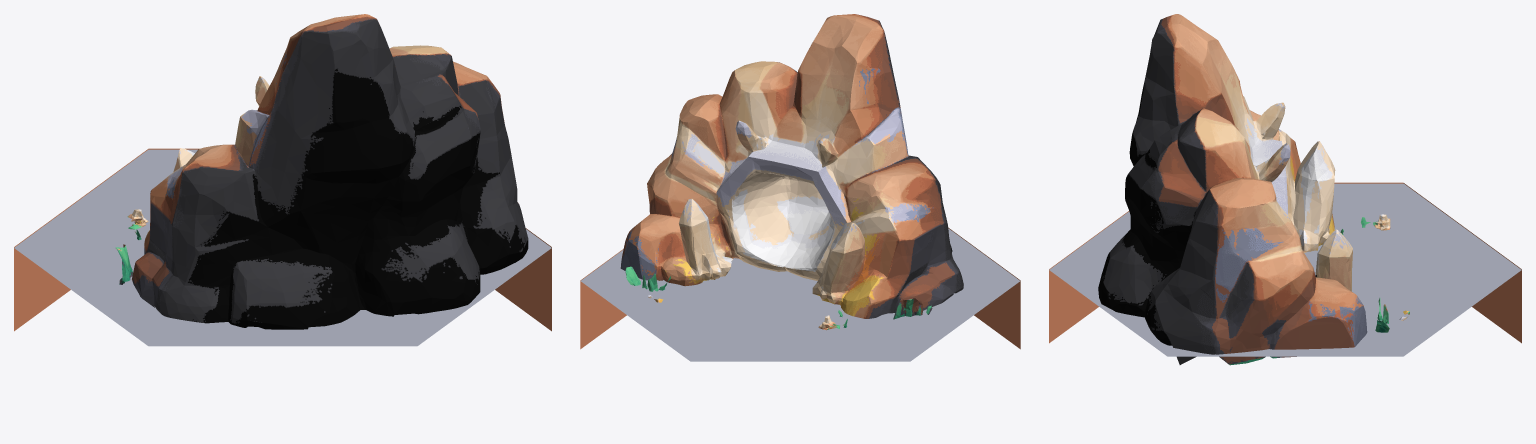
File: sun-cave.glb
3 renders of one model, left to right at view 1: azimuth 30°, elevation 25°; view 2: azimuth 150°, elevation 25°; view 3: azimuth 270°, elevation 25°, orthographic. The views are drawn at different scales.
Parts seen in each view (by area): view 1: world, hexBase; view 2: world, hexBase; view 3: world, hexBase.
Boxes of the visible parts, x1,y1,x2,y2 form: world: (115,14,528,329); hexBase: (14,148,551,346); world: (620,14,963,330); hexBase: (580,228,1020,361); world: (1098,14,1409,365); hexBase: (1049,182,1521,356).
Size of the model in its own units: 1 by 0.855 by 1.15.
Materials: 3 (1 with a texture image).
